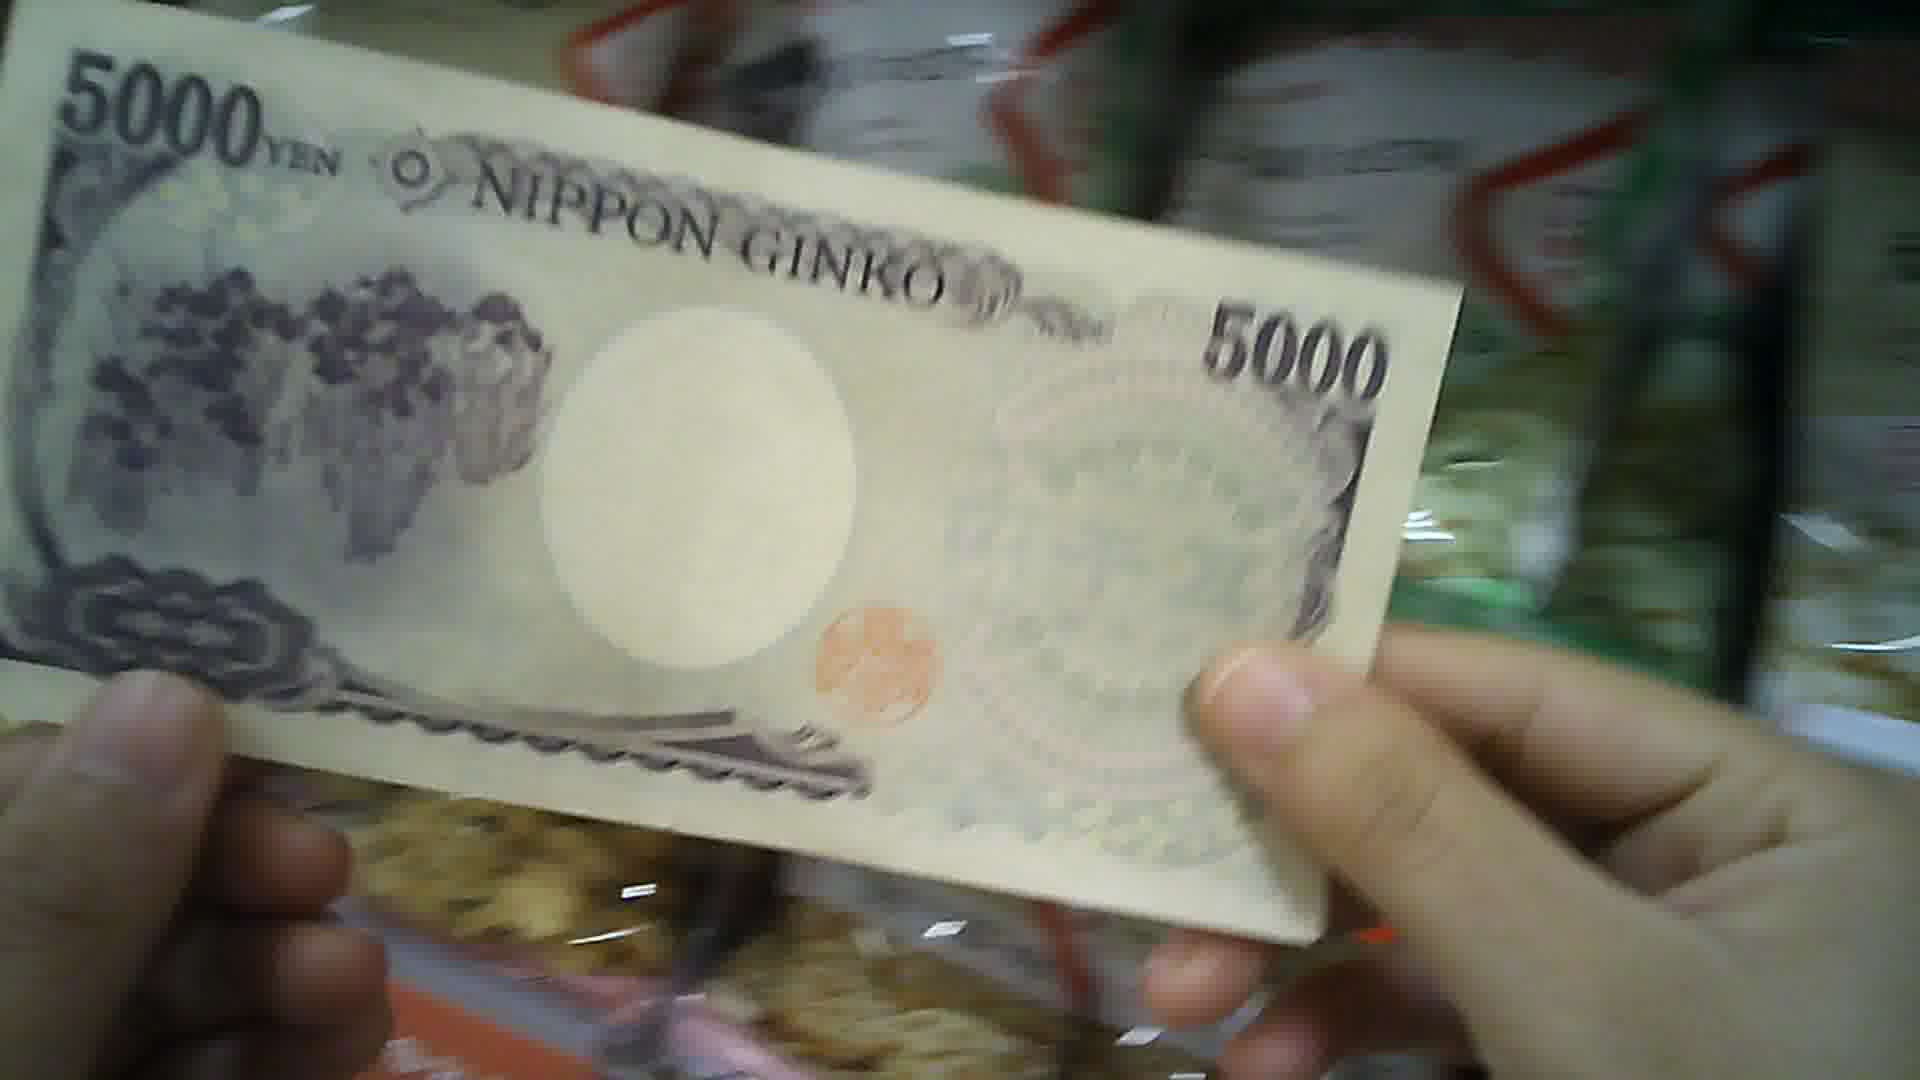5,000 Yen: (7, 8, 1427, 951)
